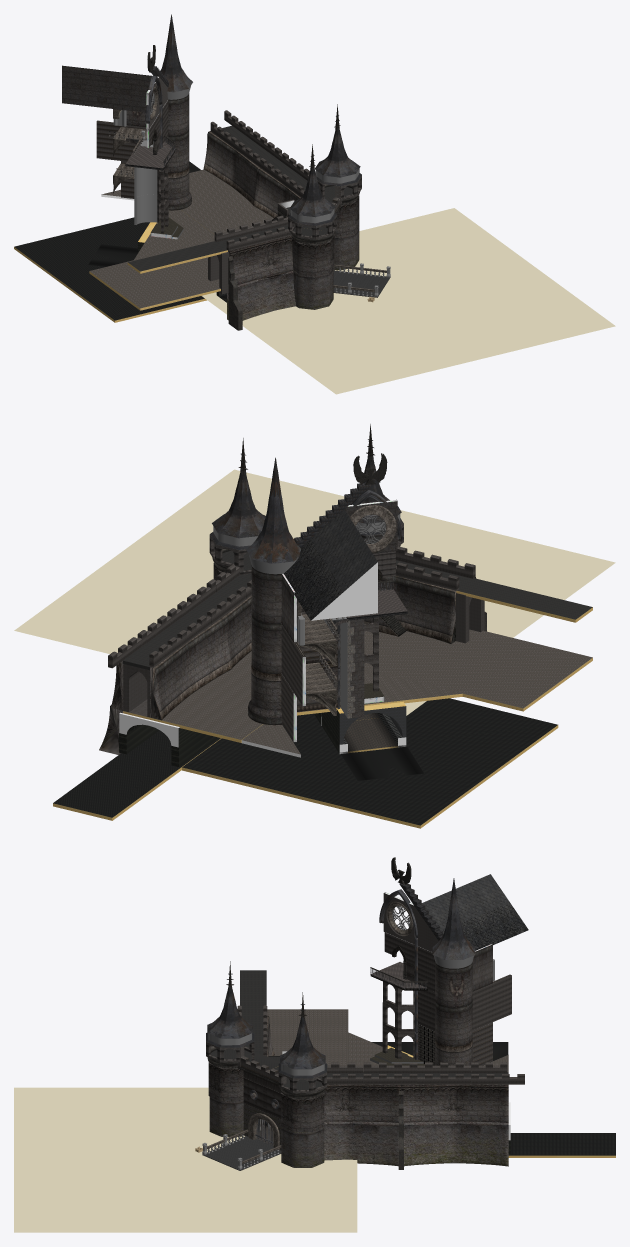
3 views of the same model, one above another, from view 1: azimuth 30°, elevation 25°; view 2: azimuth 150°, elevation 25°; view 3: azimuth 270°, elevation 25° (orthographic). The views are drawn at different scales.
Visible parts, largest first — view 1: Terrain 1,10, Castle dark (2250 prim), Oferion Dungeon body1, 2x20x8 (×3), castle (×5), Oferion Main roof, vloer, 5x40x0.5 (×2), 4x20x8, 8x8x15, tower, Castle (+1 smaller); view 2: Castle dark (2250 prim), Terrain 1,10, Oferion Dungeon body1, castle (×9), 2x20x8 (×3), Oferion Main roof, 50x10x0.5, 5x40x0.5 (×2), vloer, CrenellationBV n_n_n_n ByDragomirGreenwood (×5), Sculpt Prim (×3), 10x40x0.25 (+5 smaller); view 3: Terrain 1,10, Castle dark (2250 prim), castle (×11), 4x20x8 (×2), 2x20x8 (×2), Oferion Main roof, 50x10x0.5, 5x40x0.5 (×2), CrenellationBV n_n_n_n ByDragomirGreenwood (×3), 8x8x15, Castle, tower (+2 smaller).
Part boxes in pixels (x1,y1,x2,y2): Terrain 1,10: (202,208,615,394); Castle dark (2250 prim): (89,86,361,310); Oferion Dungeon body1: (14,217,206,322); 2x20x8 (×3): (203,131,300,285); castle (×5): (96,93,191,210); Oferion Main roof: (62,65,167,112); vloer: (181,169,273,234); 5x40x0.5 (×2): (127,125,332,273); 4x20x8: (227,271,295,320); 8x8x15: (160,14,192,92); tower: (289,167,335,217); Castle: (333,270,389,297); Castle dark (2250 prim): (119,471,592,766); Terrain 1,10: (14,469,615,715); Oferion Dungeon body1: (182,698,558,828); castle (×9): (241,499,407,757); 2x20x8 (×3): (150,576,456,720); Oferion Main roof: (283,509,377,620); 50x10x0.5: (53,730,221,820); 5x40x0.5 (×2): (123,560,592,670); vloer: (123,651,262,742); CrenellationBV n_n_n_n ByDragomirGreenwood (×5): (108,550,475,668); Sculpt Prim (×3): (297,453,387,715); 10x40x0.25: (340,713,423,780); Terrain 1,10: (14,1087,357,1232); Castle dark (2250 prim): (206,901,510,1167); castle (×11): (243,892,511,1111); 4x20x8 (×2): (324,1121,508,1166); 2x20x8 (×2): (324,1084,508,1123); Oferion Main roof: (415,874,528,952); 50x10x0.5: (508,1133,615,1157); 5x40x0.5 (×2): (240,970,508,1085); CrenellationBV n_n_n_n ByDragomirGreenwood (×3): (363,1062,524,1084); 8x8x15: (432,878,475,959); Castle: (202,1136,281,1170); tower: (207,986,252,1038).
Size of the model in its own units: 84.47 by 50.03 by 112.
199 materials, 198 textured.
